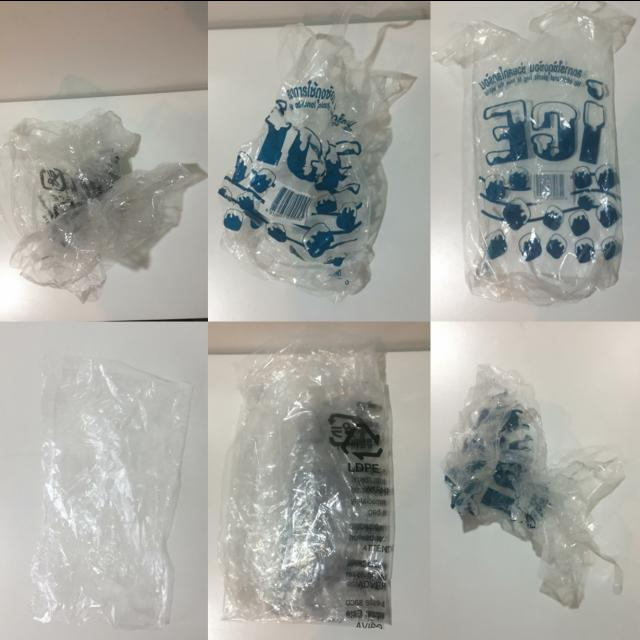plastik: (434, 0, 635, 305), (218, 26, 416, 300), (220, 348, 395, 625), (31, 355, 193, 629), (445, 364, 624, 607), (0, 108, 207, 301)
